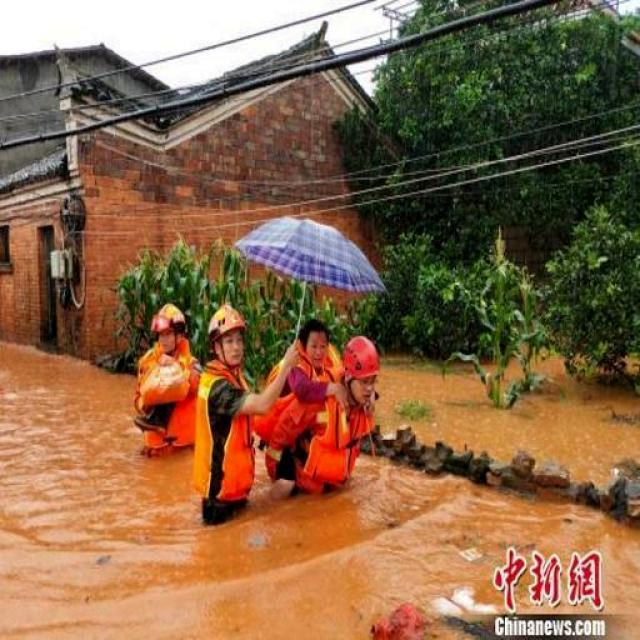civilian: (261, 312, 348, 484)
rescuer: (180, 294, 300, 535), (286, 332, 382, 514), (122, 300, 202, 477)
